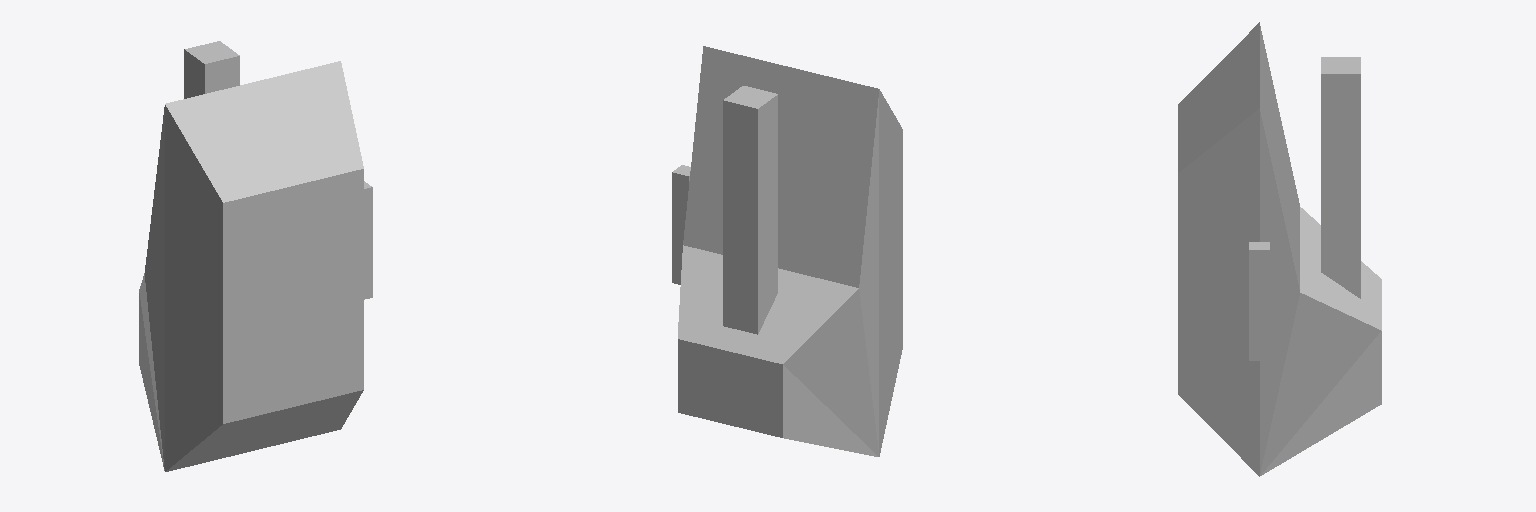
File: heavytank4-z+yinv.obj
3 renders of one model, left to right at view 1: azimuth 30°, elevation 25°; view 2: azimuth 150°, elevation 25°; view 3: azimuth 270°, elevation 25°, orthographic.
Parts seen in each view (by area): view 1: Cube; view 2: Cube; view 3: Cube.
Boxes of the visible parts, x1=… form: Cube: x1=139, y1=41, x2=372, y2=471; Cube: x1=672, y1=46, x2=902, y2=456; Cube: x1=1178, y1=22, x2=1381, y2=476.
Size of the model in its own units: 1.15 by 2 by 1.